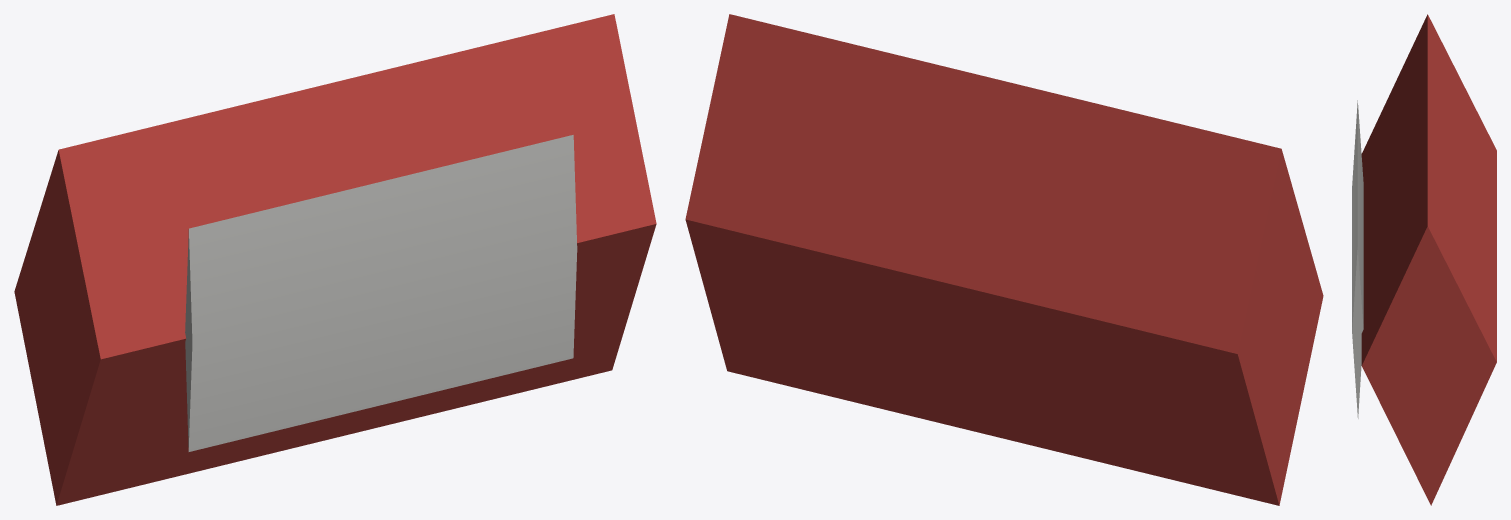
The picture shows the model from 3 angles, left to right: view 1: azimuth 30°, elevation 25°; view 2: azimuth 150°, elevation 25°; view 3: azimuth 270°, elevation 25°; orthographic projection. The views are drawn at different scales.
Visible parts, largest first — view 1: box_lod2; view 2: box_lod2; view 3: box_lod2.
Boxes of the visible parts, x1,y1,x2,y2 form: box_lod2: (14,14,656,505); box_lod2: (685,14,1323,505); box_lod2: (1352,14,1496,505).
Bounding box in the file's own units: 0.13 × 0.08 × 0.0375.
